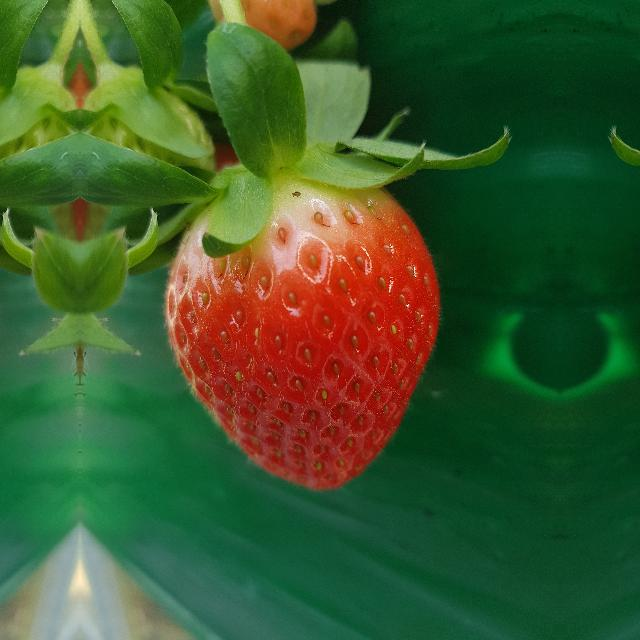Health_100: (160, 167, 442, 493)
